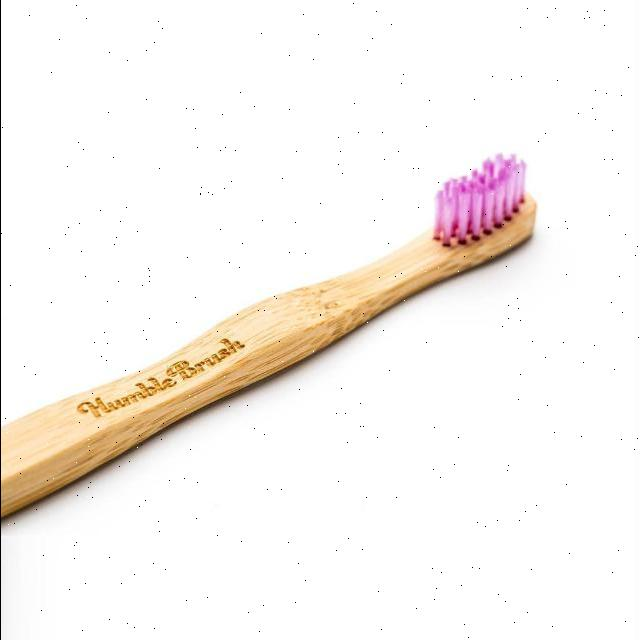toothbrush: (1, 114, 594, 566)
